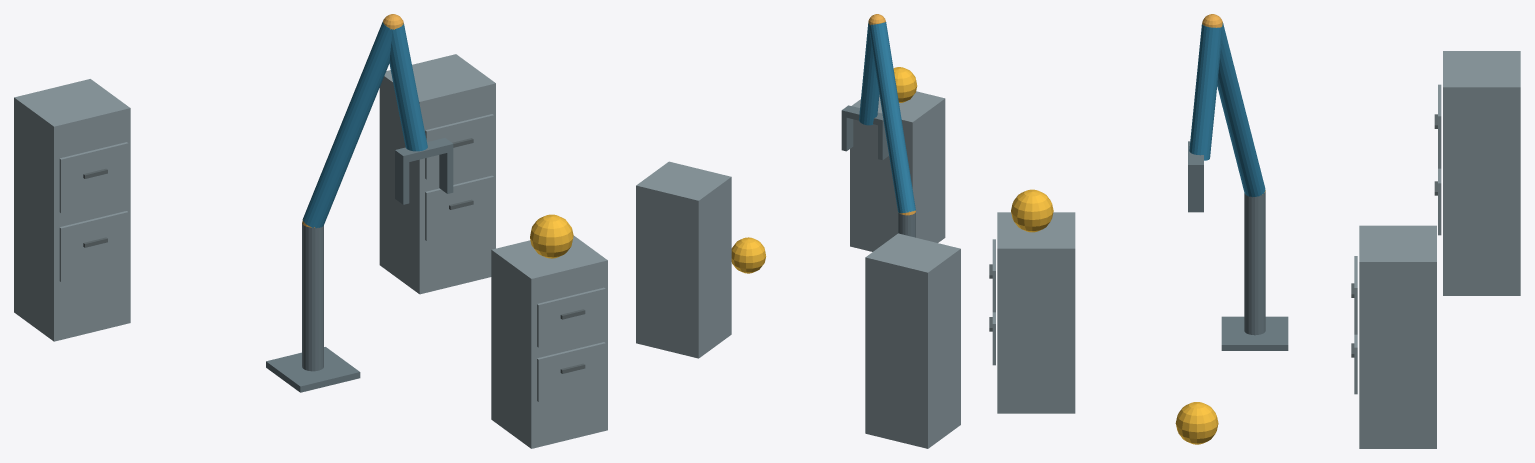
The picture shows the model from 3 angles, left to right: view 1: azimuth 30°, elevation 25°; view 2: azimuth 150°, elevation 25°; view 3: azimuth 270°, elevation 25°; orthographic projection. The views are drawn at different scales.
Parts seen in each view (by area): view 1: cabinet_3 body, cabinet_1 body, cabinet_2 body, moving link 1, cabinet_3 drawer front, cabinet_3 drawer front.001, cabinet_2 drawer front, fixed post, cabinet_1 drawer front, cabinet_1 drawer front.001, cabinet_2 drawer front.001, moving link 2 (+5 smaller); view 2: cabinet_3 body, cabinet_2 body, cabinet_1 body, moving link 1, moving link 2, ball ball_2, released ball_1, gripper finger 1, fixed post, gripper bridge; view 3: cabinet_3 body, cabinet_2 body, cabinet_1 body, moving link 1, fixed post, moving link 2, pedestal, released ball_1, ball ball_2, gripper finger 1.
Boxes of the visible parts, left/top/right/bottom form: cabinet_3 body: left=14, top=79, right=130, bottom=341; cabinet_1 body: left=491, top=235, right=607, bottom=448; cabinet_2 body: left=379, top=54, right=495, bottom=294; moving link 1: left=302, top=21, right=392, bottom=228; cabinet_3 drawer front: left=59, top=211, right=128, bottom=281; cabinet_3 drawer front.001: left=59, top=142, right=128, bottom=213; cabinet_2 drawer front: left=425, top=175, right=493, bottom=240; fixed post: left=302, top=222, right=323, bottom=371; cabinet_1 drawer front: left=537, top=342, right=605, bottom=401; cabinet_1 drawer front.001: left=537, top=287, right=605, bottom=347; cabinet_2 drawer front.001: left=425, top=114, right=493, bottom=179; moving link 2: left=389, top=23, right=427, bottom=151; cabinet_3 body: left=865, top=233, right=960, bottom=448; cabinet_2 body: left=636, top=161, right=731, bottom=358; cabinet_1 body: left=850, top=91, right=945, bottom=251; moving link 1: left=869, top=22, right=915, bottom=213; moving link 2: left=859, top=23, right=879, bottom=125; ball ball_2: left=731, top=237, right=766, bottom=273; released ball_1: left=893, top=67, right=917, bottom=102; gripper finger 1: left=841, top=116, right=853, bottom=151; fixed post: left=898, top=212, right=915, bottom=237; gripper bridge: left=841, top=105, right=884, bottom=126; cabinet_3 body: left=1443, top=51, right=1520, bottom=295; cabinet_2 body: left=1359, top=225, right=1436, bottom=448; cabinet_1 body: left=997, top=212, right=1075, bottom=413; moving link 1: left=1217, top=22, right=1265, bottom=197; fixed post: left=1244, top=192, right=1265, bottom=335; moving link 2: left=1189, top=24, right=1221, bottom=160; pedestal: left=1221, top=316, right=1288, bottom=350; released ball_1: left=1011, top=189, right=1053, bottom=232; ball ball_2: left=1175, top=402, right=1218, bottom=444; gripper finger 1: left=1188, top=172, right=1203, bottom=212.
Size of the model in its own units: 1.69 by 1.44 by 1.98.
